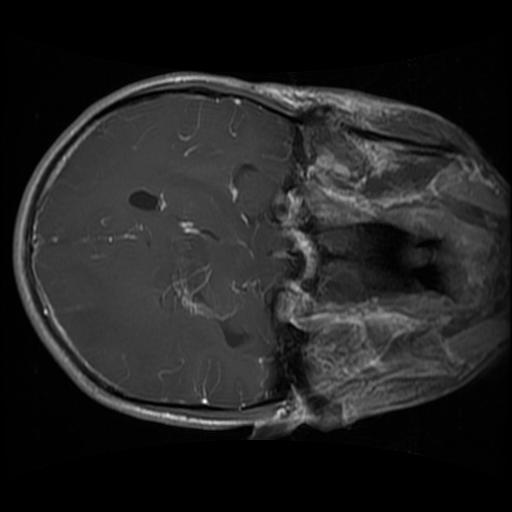glioma: (156, 216, 232, 321)
